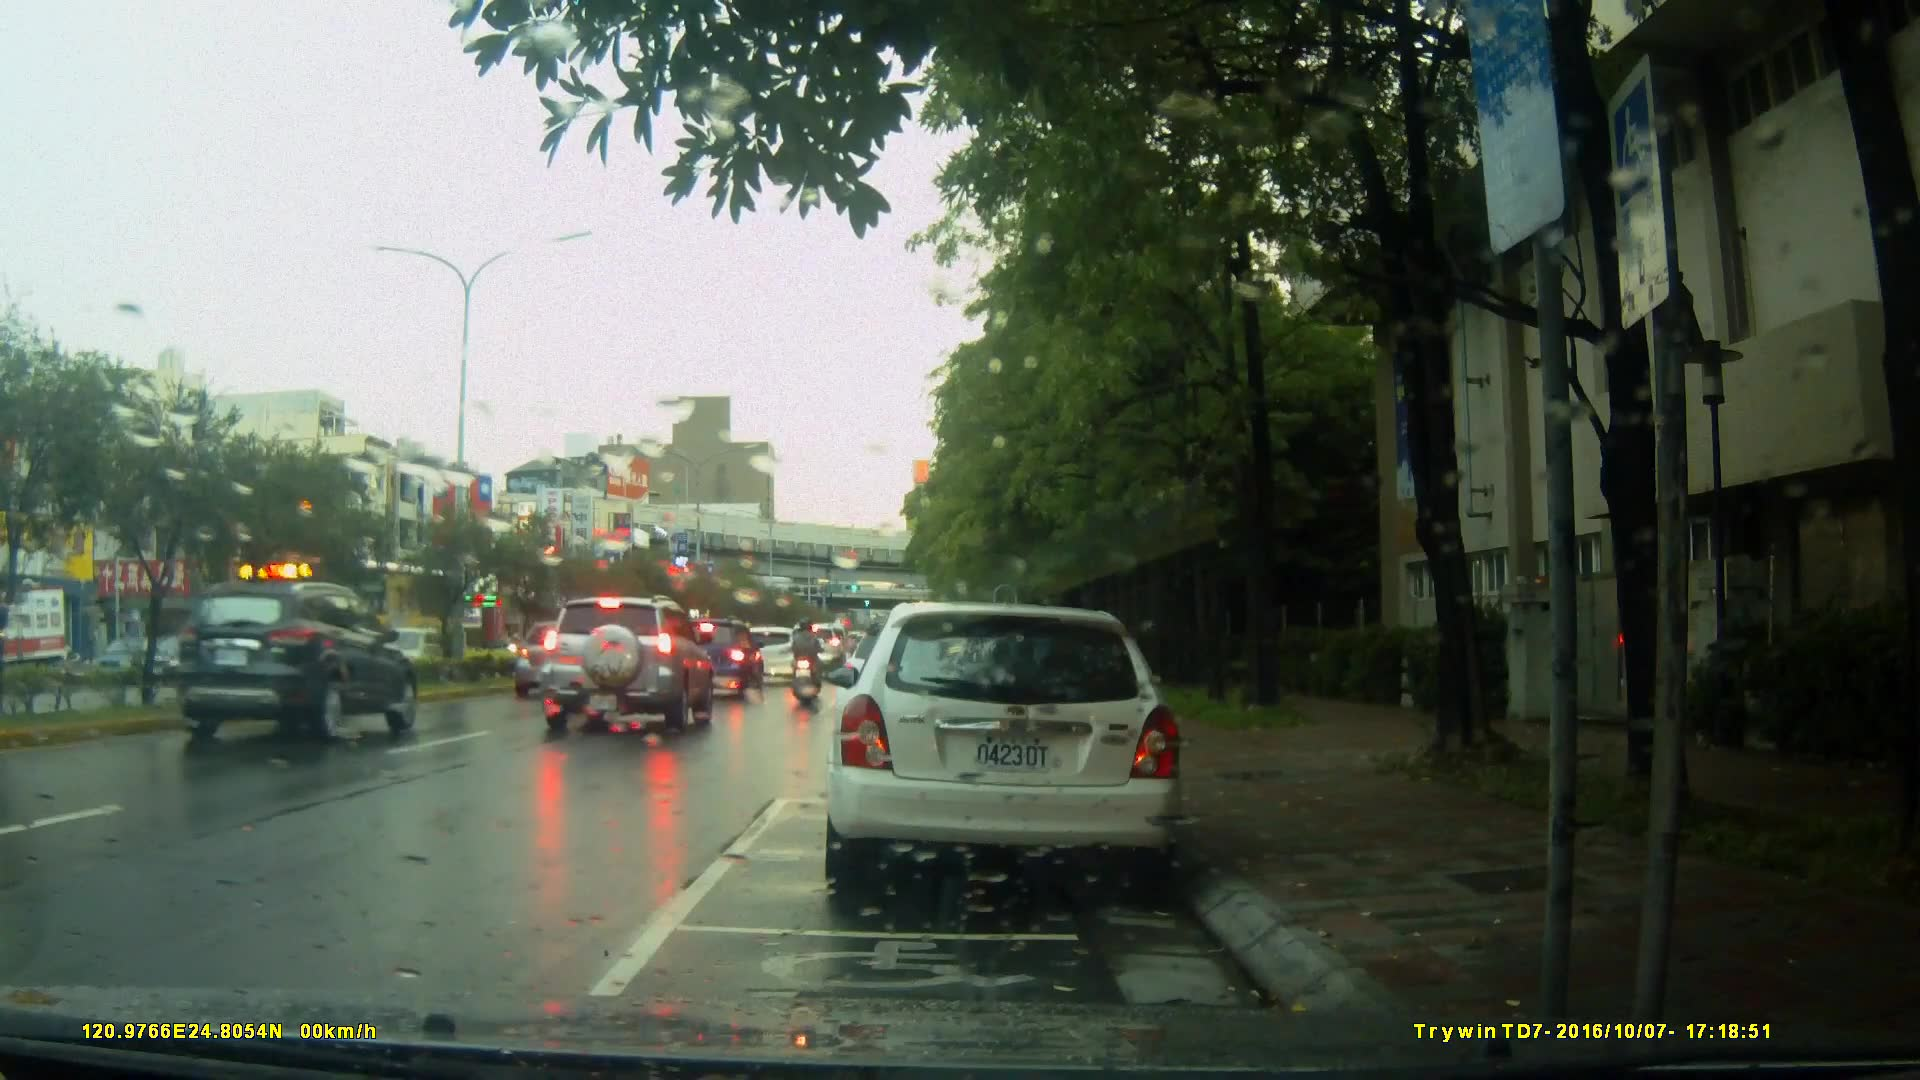rider: (791, 612, 832, 713)
vehicle: (820, 602, 1188, 898), (171, 580, 425, 747), (544, 595, 720, 732), (670, 615, 769, 693)
